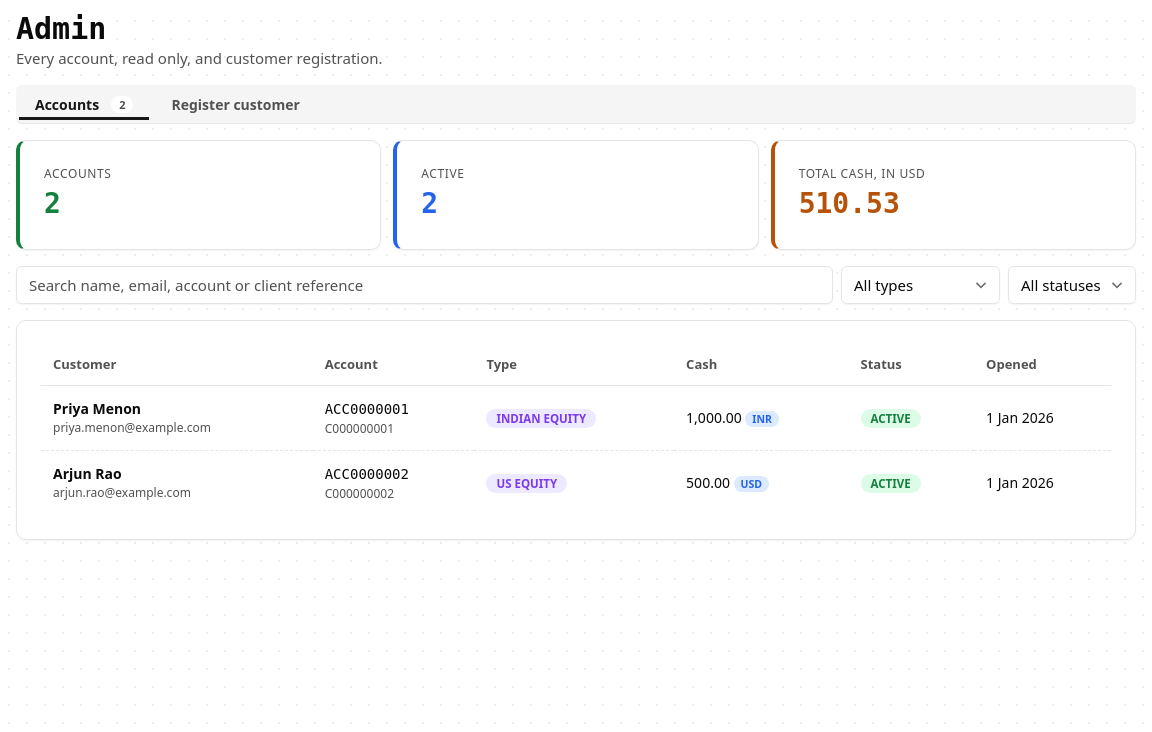
it: AdminDashboardComponent › registration › previews the username from the email before anything is sent
Click the tab "Register customer" at (236, 104), box [156,88,316,120]
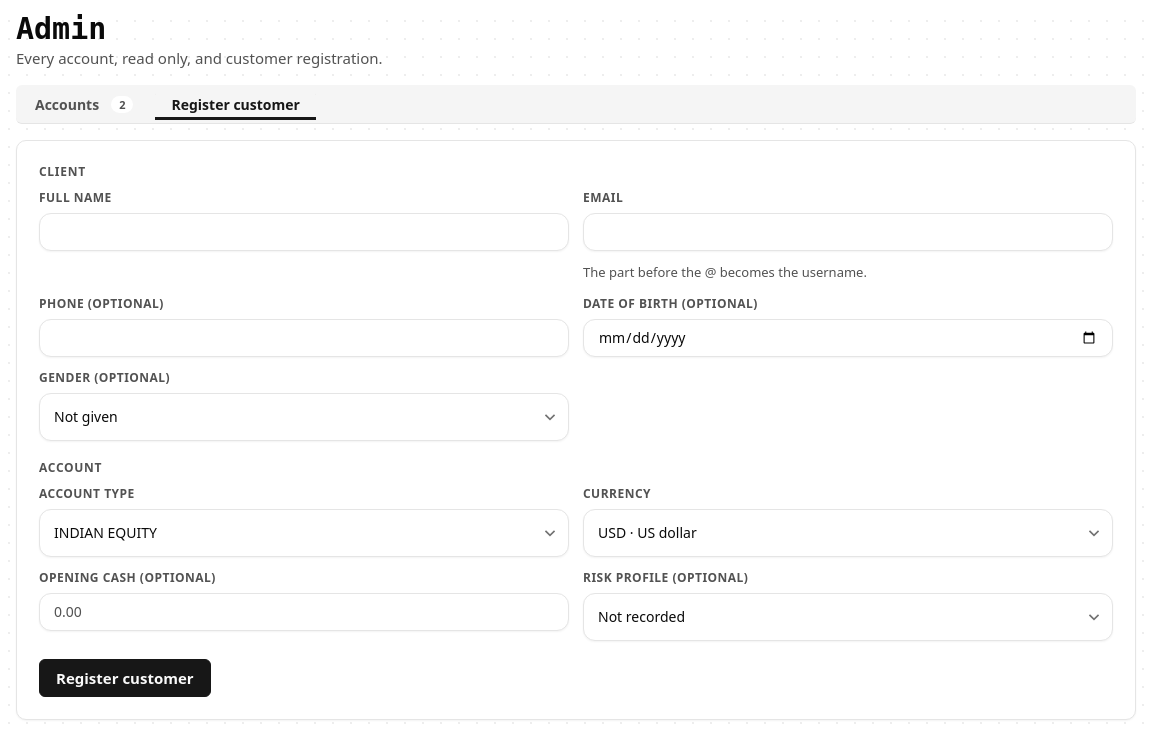
Type "priya.menon@example.com" into the field labelled "Email" at (848, 232), box [583,213,1113,251]
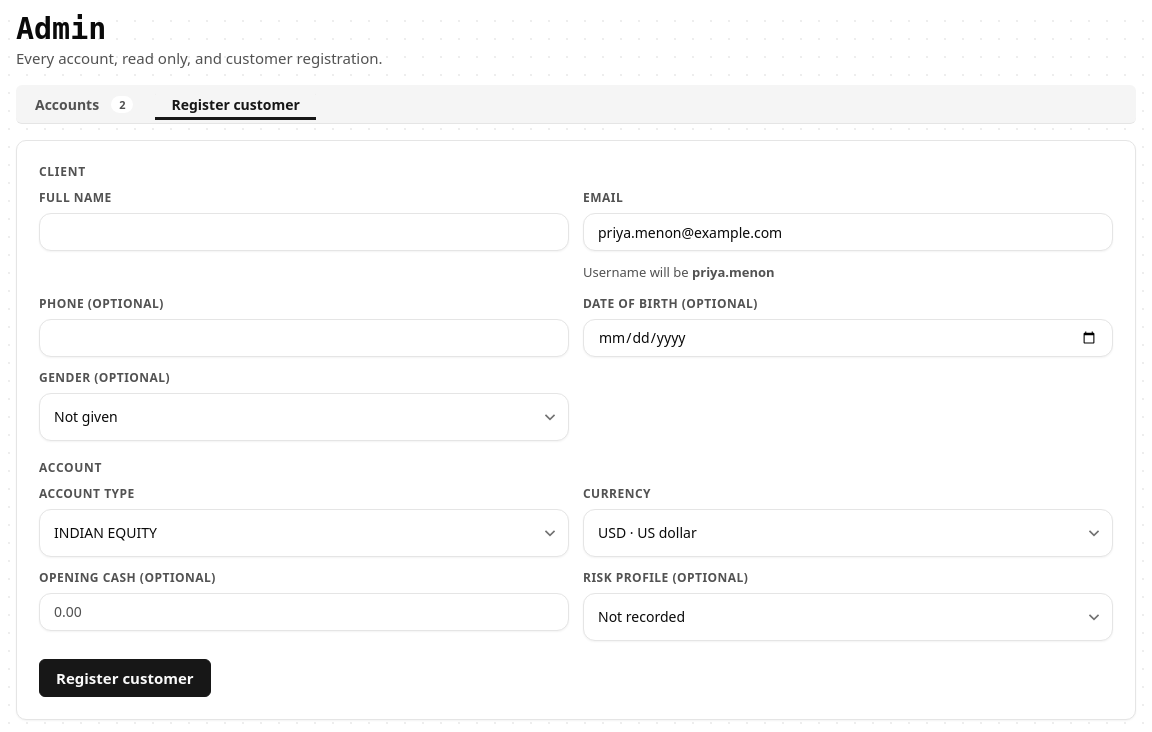
Now the element with test id "reg-username" shows "priya.menon", box [692,263,775,281]
Replace the text in the field labelled "Email" with "ab@example.com" at (848, 232), box [583,213,1113,251]
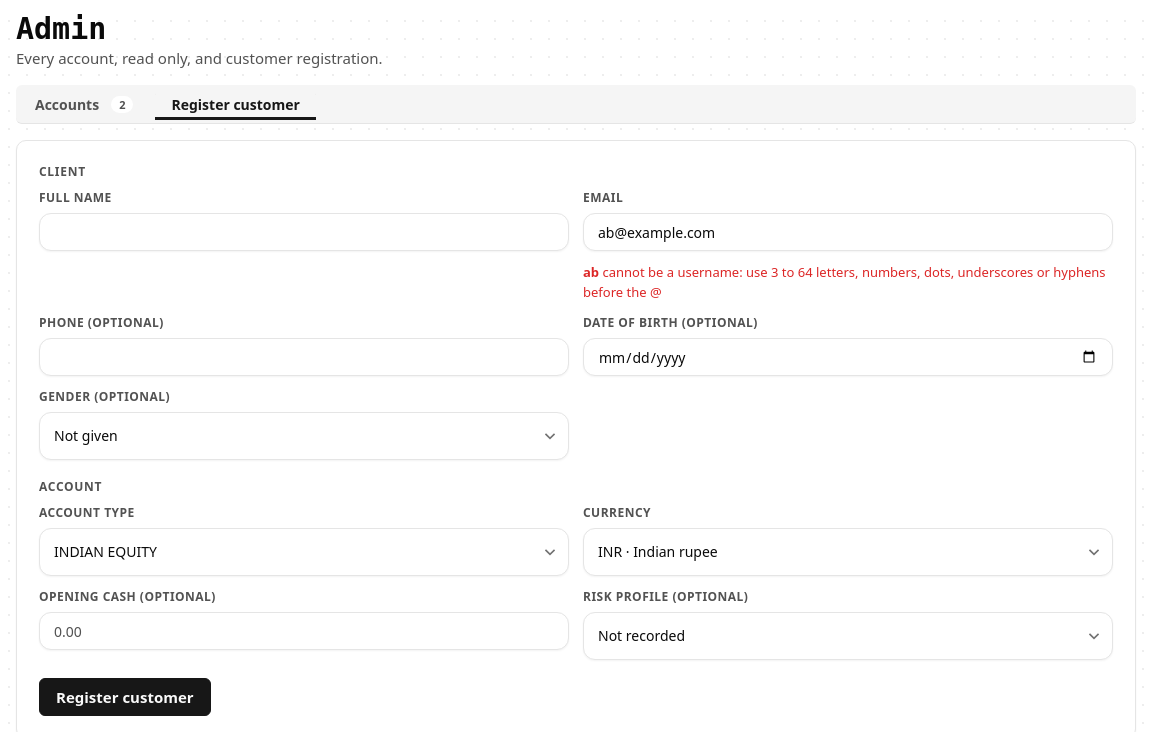
Now the element with test id "reg-username" shows "cannot be a username", box [583,263,1106,300]
